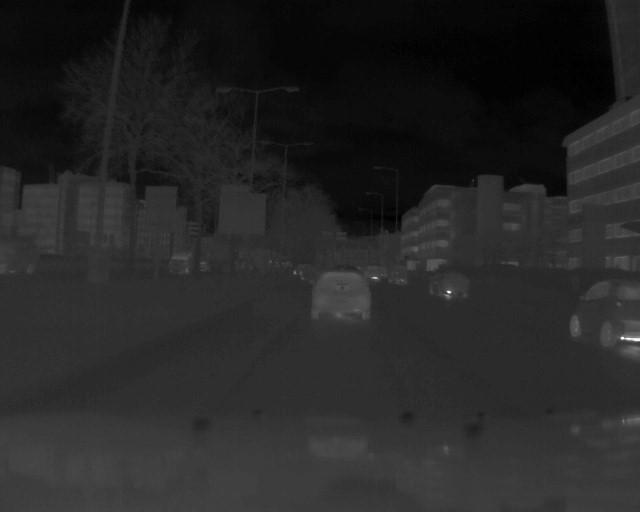car: (565, 276, 640, 348), (310, 269, 375, 320), (424, 269, 474, 304)
